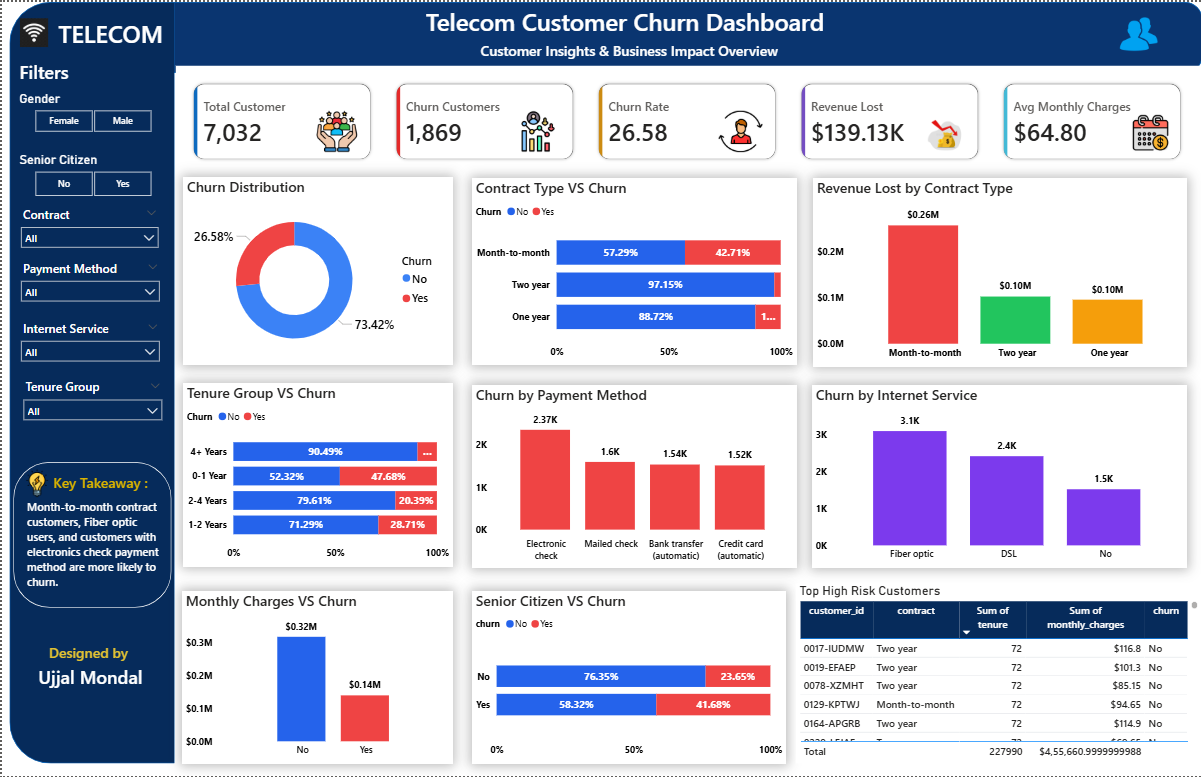

The dashboard page shown, as its layout file describes it:
{"tool":"powerbi","page":{"name":"Page 1","canvas":[1600,1032],"ordinal":0},"visuals":[{"type":"shape","box":[218.7,0,1382.5,94.8],"z":0},{"type":"shape","box":[10.7,0,220.2,1015.5],"z":1000},{"type":"cardVisual","fields":{"Data":["public customer_churn.Total Customer","public customer_churn.Churn Customers","public customer_churn.Churn Rate","public customer_churn.Revenue Lost","public customer_churn.Avg Monthly Charges"]},"box":[230.9,85.6,1368.8,149.9],"z":2000},{"type":"donutChart","title":"Churn Distribution","fields":{"Category":["public customer_churn.churn"],"Y":["CountNonNull(public customer_churn.customer_id)"]},"box":[241.6,234,359.4,250.8],"z":3000},{"type":"hundredPercentStackedBarChart","title":"Contract Type VS Churn","fields":{"Category":["public customer_churn.contract"],"Y":["CountNonNull(public customer_churn.customer_id)"],"Series":["public customer_churn.churn"]},"box":[627,235.5,432.8,249.3],"z":4000},{"type":"clusteredColumnChart","title":"Revenue Lost by Contract Type","fields":{"Category":["public customer_churn.contract"],"Y":["Sum(public customer_churn.monthly_charges)"]},"box":[1081.2,235.5,498.6,250.8],"z":5000},{"type":"hundredPercentStackedBarChart","title":"Tenure Group VS Churn","fields":{"Category":["public customer_churn.tenure_group"],"Series":["public customer_churn.churn"],"Y":["CountNonNull(public customer_churn.customer_id)"]},"box":[241.6,507.7,359.4,244.7],"z":6000},{"type":"clusteredColumnChart","title":"Churn by Payment Method","fields":{"Category":["public customer_churn.payment_method"],"Y":["CountNonNull(public customer_churn.customer_id)"]},"box":[627,509.3,432.8,244.7],"z":7000},{"type":"clusteredColumnChart","title":"Churn by Internet Service","fields":{"Y":["CountNonNull(public customer_churn.customer_id)"],"Category":["public customer_churn.internet_service"]},"box":[1079.7,509.3,500.1,244.7],"z":8000},{"type":"hundredPercentStackedBarChart","title":"Senior Citizen VS Churn","fields":{"Category":["public customer_churn.senior_citizen"],"Series":["public customer_churn.churn"],"Y":["CountNonNull(public customer_churn.customer_id)"]},"box":[627,784.6,419,230.9],"z":9000},{"type":"tableEx","title":"Top High Risk Customers","fields":{"Values":["public customer_churn.customer_id","public customer_churn.contract","Sum(public customer_churn.tenure)","Sum(public customer_churn.monthly_charges)","public customer_churn.churn"]},"box":[1058.3,775.4,541.4,240.1],"z":10000},{"type":"clusteredColumnChart","title":"Monthly Charges VS Churn","fields":{"Category":["public customer_churn.churn"],"Y":["Sum(public customer_churn.monthly_charges)"]},"box":[240.1,784.6,360.9,230.9],"z":11000},{"type":"slicer","title":"Gender","fields":{"Values":["public customer_churn.gender"]},"box":[18.4,117.8,204.9,61.2],"z":12000},{"type":"slicer","title":"Senior Citizen","fields":{"Values":["public customer_churn.senior_citizen"]},"box":[18.4,200.3,204.9,65.8],"z":13000},{"type":"slicer","fields":{"Values":["public customer_churn.contract"]},"box":[15.3,266.1,203.4,71.9],"z":14000},{"type":"slicer","fields":{"Values":["public customer_churn.payment_method"]},"box":[15.3,338,204.9,70.4],"z":15000},{"type":"slicer","fields":{"Values":["public customer_churn.internet_service"]},"box":[15.3,419,204.9,65.8],"z":16000},{"type":"slicer","fields":{"Values":["public customer_churn.tenure_group"]},"box":[18.4,497,204.9,67.3],"z":17000},{"type":"textbox","box":[529.2,0,613.3,59.6],"z":18000},{"type":"textbox","box":[627,47.4,419,47.4],"z":19000},{"type":"textbox","box":[30.6,15.3,229.4,70.4],"z":20000},{"type":"shape","box":[15.3,613.3,211.1,194.2],"z":21000},{"type":"textbox","box":[62.7,624,143.8,36.7],"z":22000},{"type":"textbox","box":[27.5,657.6,188.1,149.9],"z":23000},{"type":"textbox","box":[18.4,71.9,126.9,48.9],"z":24000},{"type":"image","box":[18.4,21.4,48.9,38.2],"z":25000},{"type":"image","box":[409.9,145.3,73.4,55.1],"z":26000},{"type":"image","box":[679,145.3,73.4,55.1],"z":27000},{"type":"image","box":[948.2,145.3,73.4,55.1],"z":28000},{"type":"image","box":[1220.4,148.3,73.4,55.1],"z":29000},{"type":"image","box":[1495.7,148.3,73.4,52],"z":30000},{"type":"image","box":[1463.6,0,105.5,85.6],"z":31000},{"type":"textbox","box":[38.2,850.3,159.1,55.1],"z":32000},{"type":"textbox","box":[38.2,877.8,159.1,76.5],"z":33000},{"type":"image","box":[10.7,624,73.4,36.7],"z":34000}]}

Visuals, with their boxes in screenshot pixels (x1, y1, x2, y2), scaled from the page's 1600x1032 canvas onto the 1201x777 screenshot:
shape: {"x1": 164, "y1": 0, "x2": 1200, "y2": 71}
shape: {"x1": 8, "y1": 0, "x2": 173, "y2": 765}
cardVisual - public customer_churn.Total Customer x public customer_churn.Churn Customers: {"x1": 173, "y1": 64, "x2": 1200, "y2": 177}
"Churn Distribution" donutChart: {"x1": 181, "y1": 176, "x2": 451, "y2": 365}
"Contract Type VS Churn" hundredPercentStackedBarChart: {"x1": 471, "y1": 177, "x2": 796, "y2": 365}
"Revenue Lost by Contract Type" clusteredColumnChart: {"x1": 812, "y1": 177, "x2": 1186, "y2": 366}
"Tenure Group VS Churn" hundredPercentStackedBarChart: {"x1": 181, "y1": 382, "x2": 451, "y2": 566}
"Churn by Payment Method" clusteredColumnChart: {"x1": 471, "y1": 383, "x2": 796, "y2": 568}
"Churn by Internet Service" clusteredColumnChart: {"x1": 810, "y1": 383, "x2": 1186, "y2": 568}
"Senior Citizen VS Churn" hundredPercentStackedBarChart: {"x1": 471, "y1": 591, "x2": 785, "y2": 765}
"Top High Risk Customers" tableEx: {"x1": 794, "y1": 584, "x2": 1200, "y2": 765}
"Monthly Charges VS Churn" clusteredColumnChart: {"x1": 180, "y1": 591, "x2": 451, "y2": 765}
"Gender" slicer: {"x1": 14, "y1": 89, "x2": 168, "y2": 135}
"Senior Citizen" slicer: {"x1": 14, "y1": 151, "x2": 168, "y2": 200}
slicer - public customer_churn.contract: {"x1": 11, "y1": 200, "x2": 164, "y2": 254}
slicer - public customer_churn.payment_method: {"x1": 11, "y1": 254, "x2": 165, "y2": 307}
slicer - public customer_churn.internet_service: {"x1": 11, "y1": 315, "x2": 165, "y2": 365}
slicer - public customer_churn.tenure_group: {"x1": 14, "y1": 374, "x2": 168, "y2": 425}
textbox: {"x1": 397, "y1": 0, "x2": 858, "y2": 45}
textbox: {"x1": 471, "y1": 36, "x2": 785, "y2": 71}
textbox: {"x1": 23, "y1": 12, "x2": 195, "y2": 65}
shape: {"x1": 11, "y1": 462, "x2": 170, "y2": 608}
textbox: {"x1": 47, "y1": 470, "x2": 155, "y2": 497}
textbox: {"x1": 21, "y1": 495, "x2": 162, "y2": 608}
textbox: {"x1": 14, "y1": 54, "x2": 109, "y2": 91}
image: {"x1": 14, "y1": 16, "x2": 51, "y2": 45}
image: {"x1": 308, "y1": 109, "x2": 363, "y2": 151}
image: {"x1": 510, "y1": 109, "x2": 565, "y2": 151}
image: {"x1": 712, "y1": 109, "x2": 767, "y2": 151}
image: {"x1": 916, "y1": 112, "x2": 971, "y2": 153}
image: {"x1": 1123, "y1": 112, "x2": 1178, "y2": 151}
image: {"x1": 1099, "y1": 0, "x2": 1178, "y2": 64}
textbox: {"x1": 29, "y1": 640, "x2": 148, "y2": 682}
textbox: {"x1": 29, "y1": 661, "x2": 148, "y2": 718}
image: {"x1": 8, "y1": 470, "x2": 63, "y2": 497}
